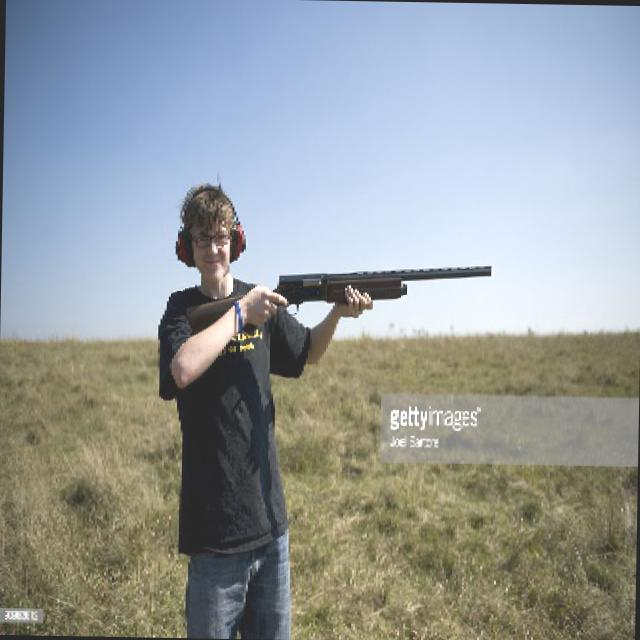long weapon: (186, 252, 497, 324)
